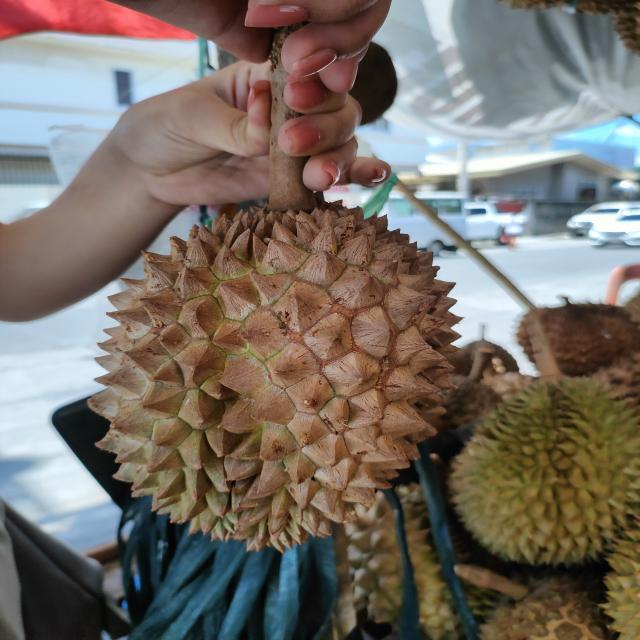mature: (85, 201, 471, 550)
